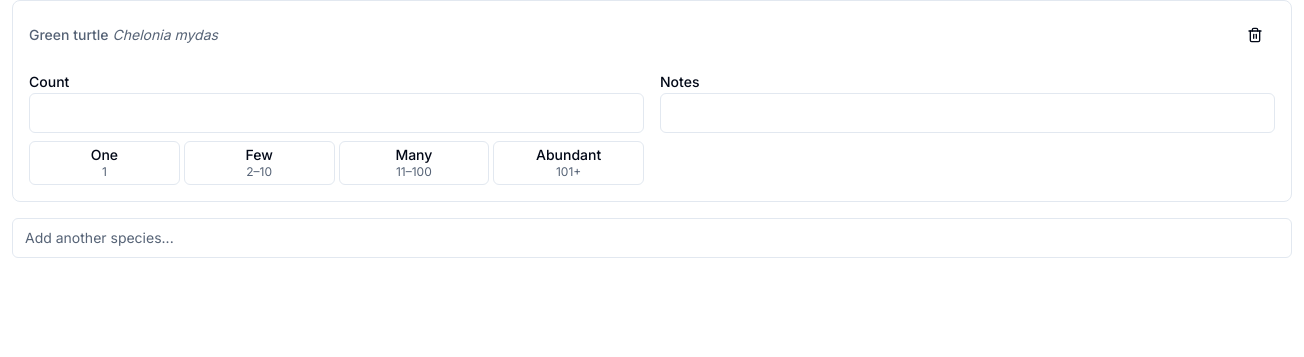
it: SpeciesMultiSelect › asks with the form's sites and held species, from the empty query on
The width and height of the screenshot is (1304, 357).
What coordinates should you click on to do the following:
click the dropdown
I would click on:
 (652, 238)
Its box is [12, 218, 1292, 258].
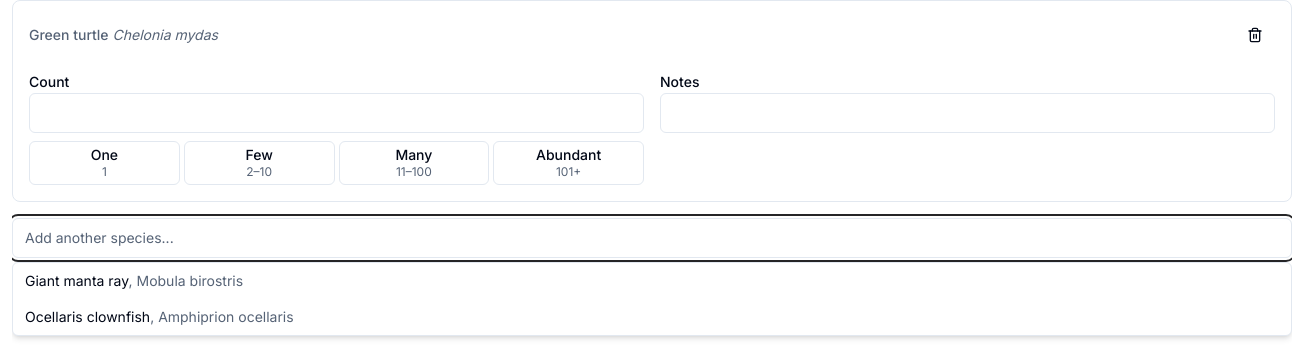
Expected: the option "Giant manta ray, Mobula birostris" is shown, [13, 262, 1291, 298]
